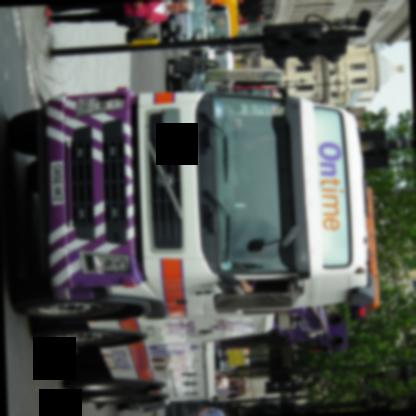handbag: (115, 15, 144, 28)
